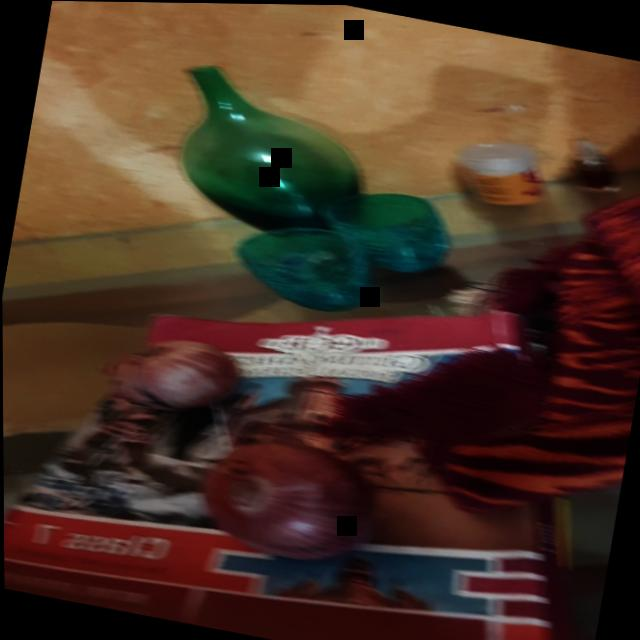onion: (185, 419, 383, 578), (115, 322, 248, 427)
